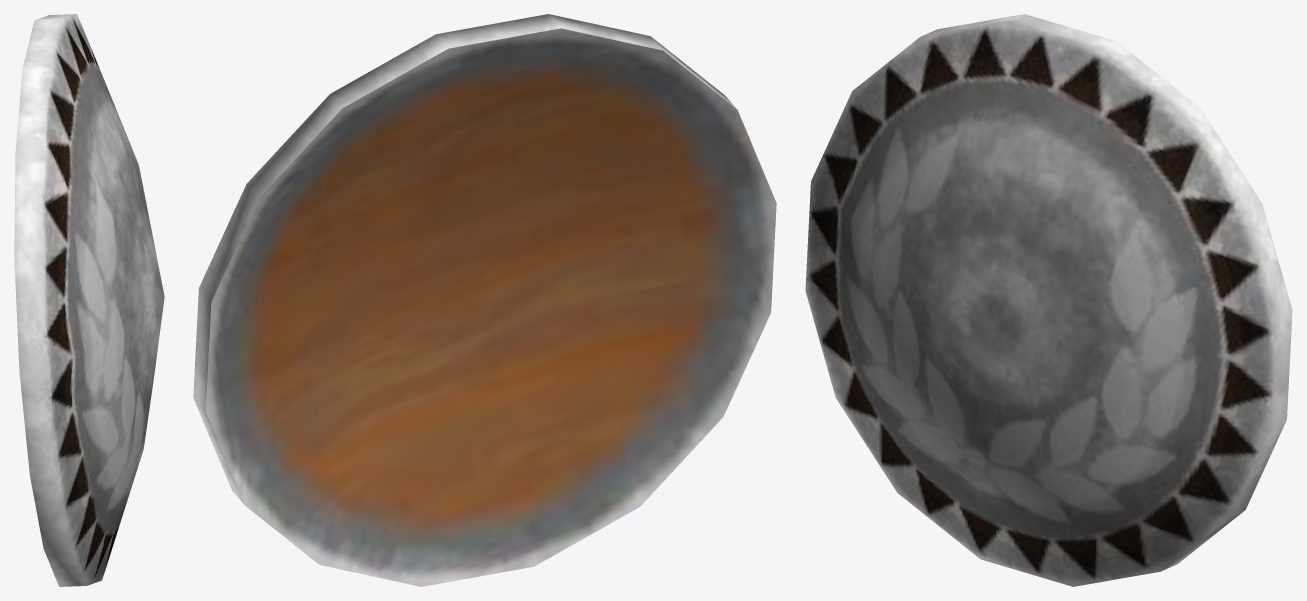
Rendered from shield-bronzeshields.glb.
The picture shows the model from 3 angles, left to right: view 1: azimuth 30°, elevation 25°; view 2: azimuth 150°, elevation 25°; view 3: azimuth 270°, elevation 25°; orthographic projection. The views are drawn at different scales.
Size of the model in its own units: 0.435 by 0.678 by 0.5729.
1 material, 1 textured.
